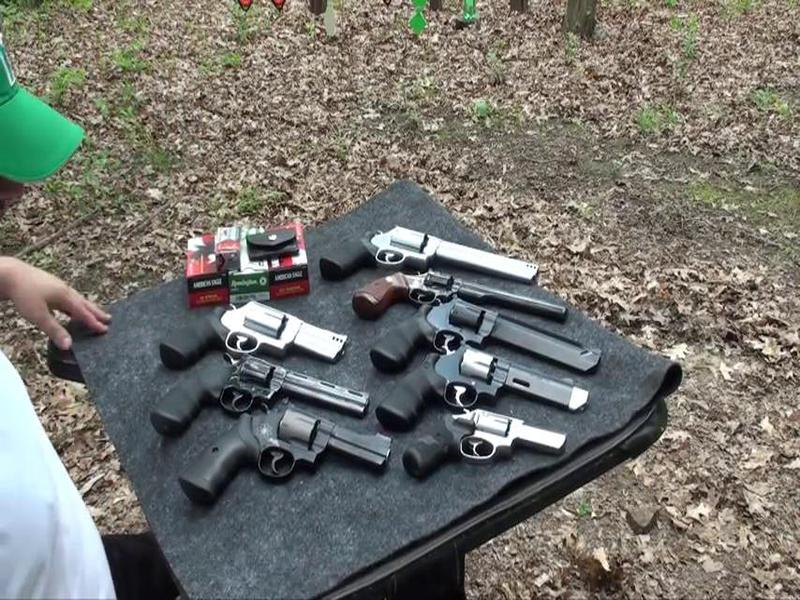Revolver: (198, 413, 393, 509), (166, 289, 353, 373), (147, 357, 370, 424)
